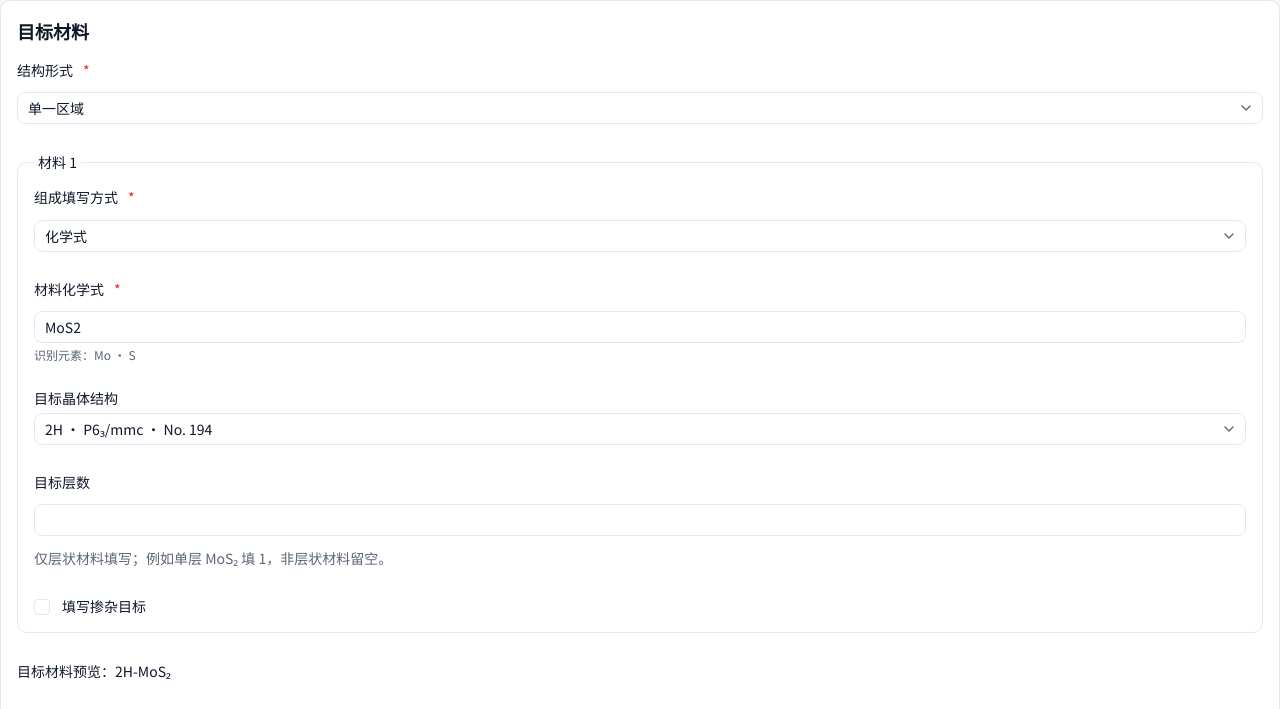
it: simple target phase editing › clears a phase that no longer matches an edited formula
Check: the text "结构形式 *" is shown, box [17, 59, 144, 80]
Check: the dropdown named "结构形式" is shown, box [17, 92, 1263, 124]
Replace the text in the field with placeholder "例如 MoS2" with "BN": (640, 327) [34, 311, 1246, 343]
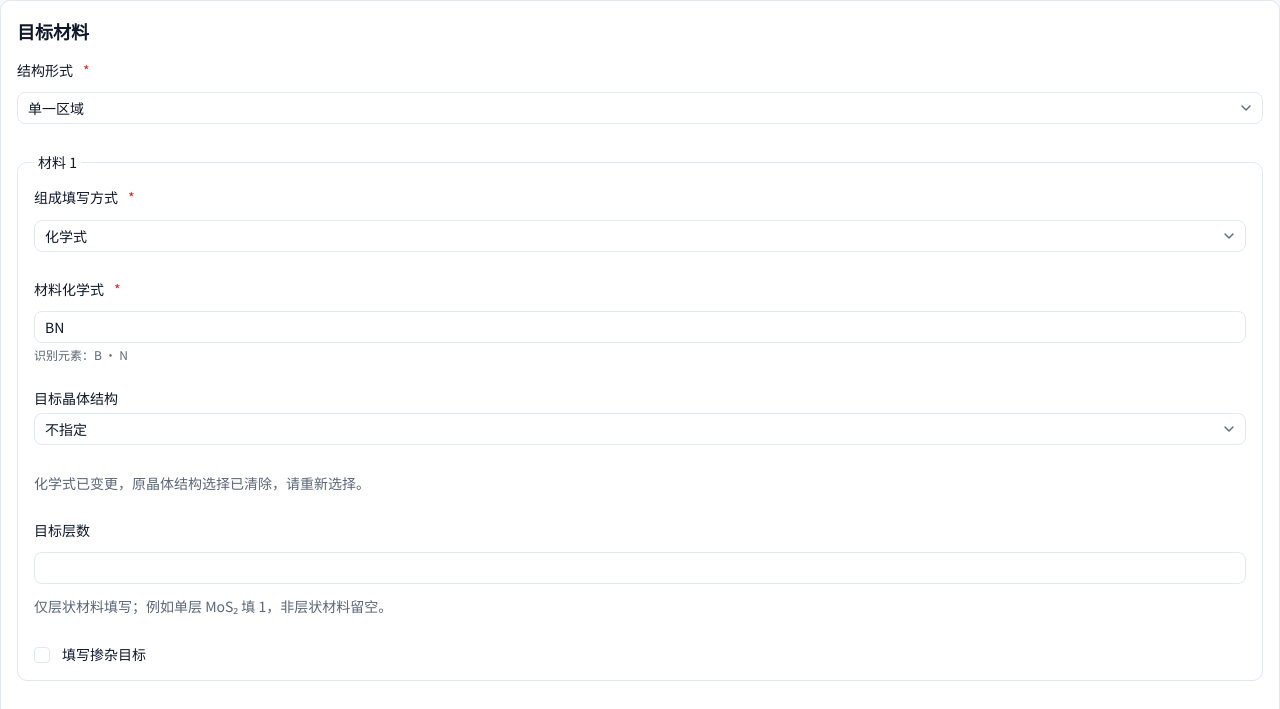
Check: the text "化学式已变更，原晶体结构选择已清除，请重新选择。" is shown, box [34, 473, 370, 493]
